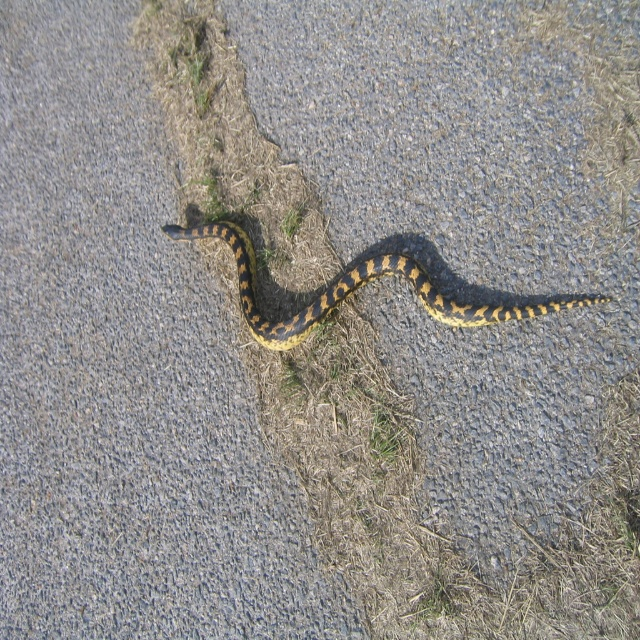Snake: (154, 205, 602, 375)
